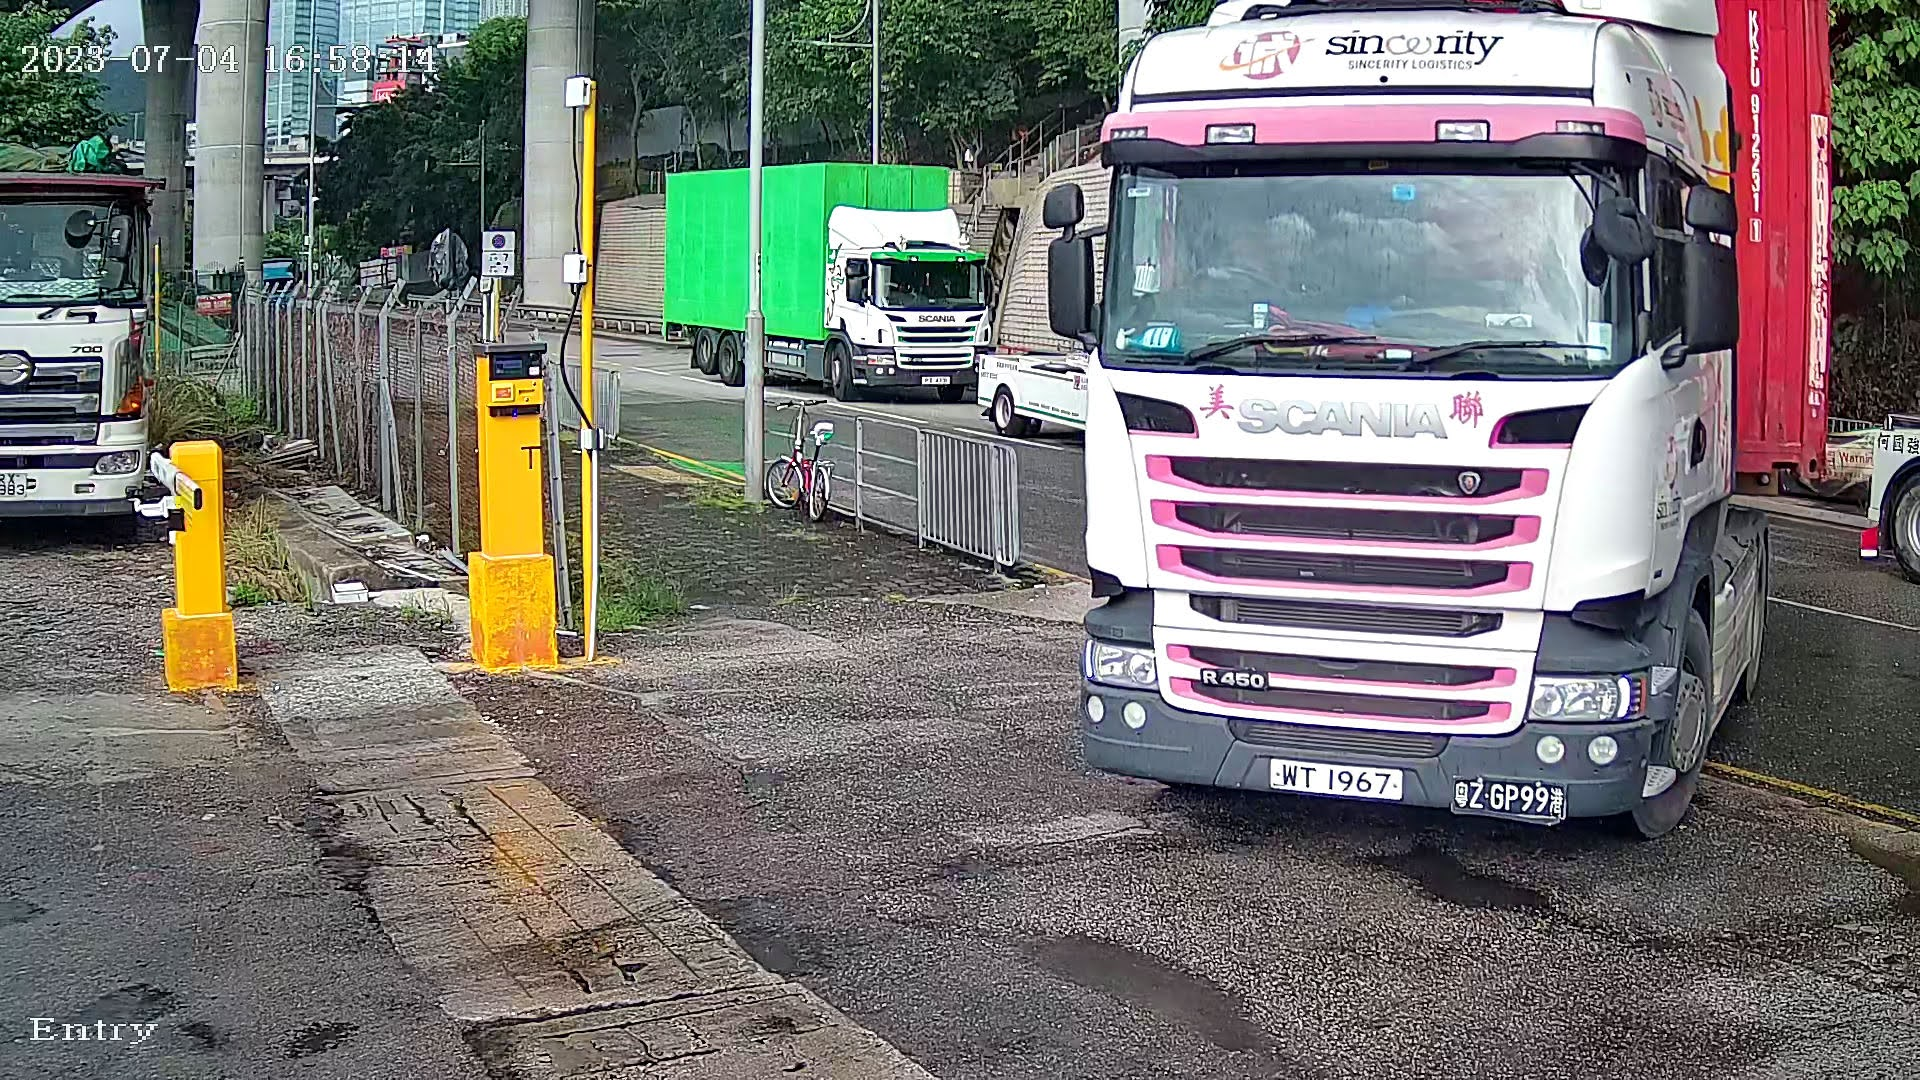truck: (1004, 1, 1908, 895)
